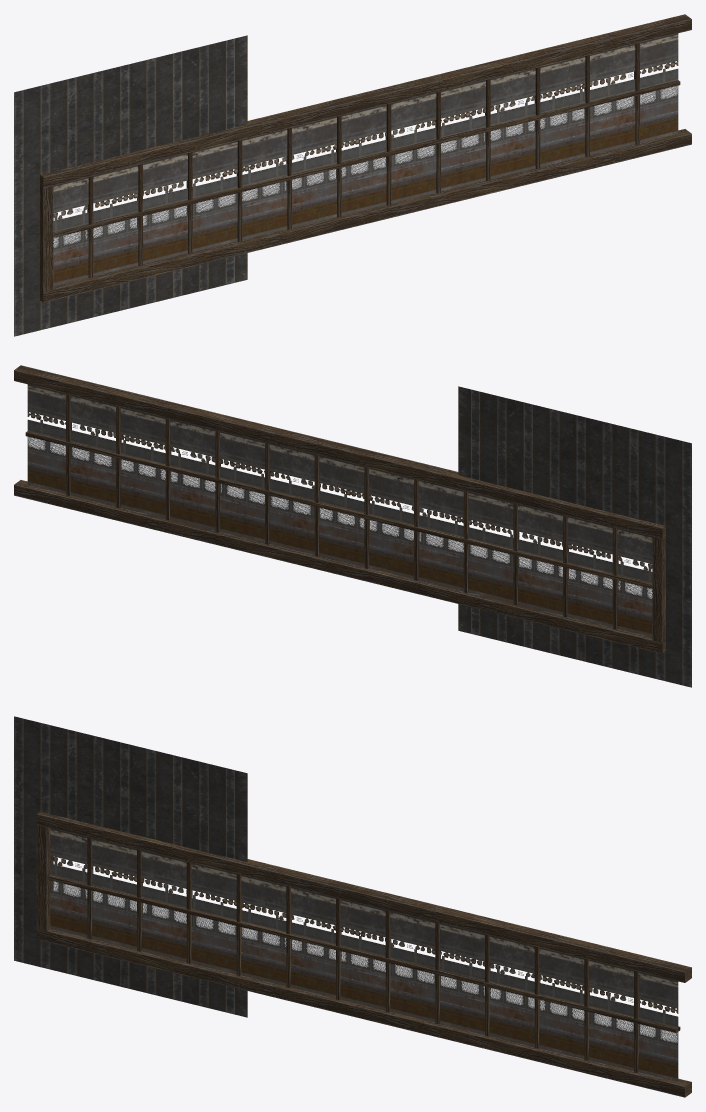
File: window_start12x4.fbx
3 renders of one model, top to bottom at view 1: azimuth 30°, elevation 25°; view 2: azimuth 150°, elevation 25°; view 3: azimuth 330°, elevation 25°, orthographic.
Parts seen in each view (by area): view 1: window_start12x4; view 2: window_start12x4; view 3: window_start12x4.
Part boxes in pixels (x1,y1,x2,y2): window_start12x4: (14, 14, 691, 336); window_start12x4: (14, 365, 691, 687); window_start12x4: (14, 716, 691, 1097).
Size of the model in its own units: 1155 by 400 by 20.34.
